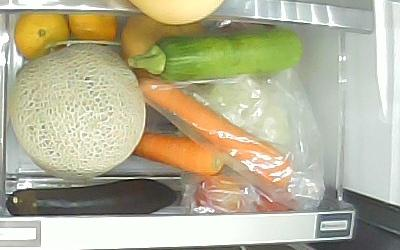cabbage_vinyl: (211, 84, 289, 151)
carrot: (133, 133, 224, 175)
carrot_vinyl: (139, 77, 294, 188)
eggplant: (6, 179, 179, 216)
melon: (9, 40, 146, 182)
pear: (120, 13, 201, 75)
prune_vinyl: (196, 175, 244, 213), (254, 188, 296, 212)
tangerine: (14, 12, 70, 59), (67, 12, 117, 44)
zucchini: (128, 28, 303, 82)
